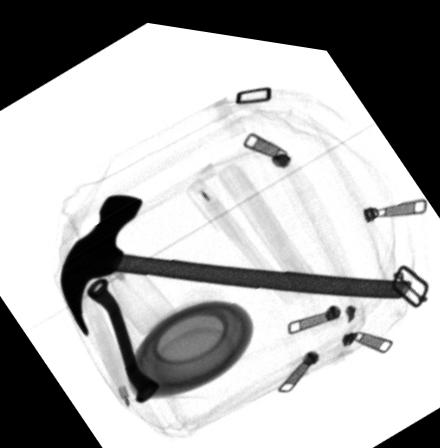Hammer: (56, 188, 408, 335)
Wrench: (83, 273, 160, 400)
